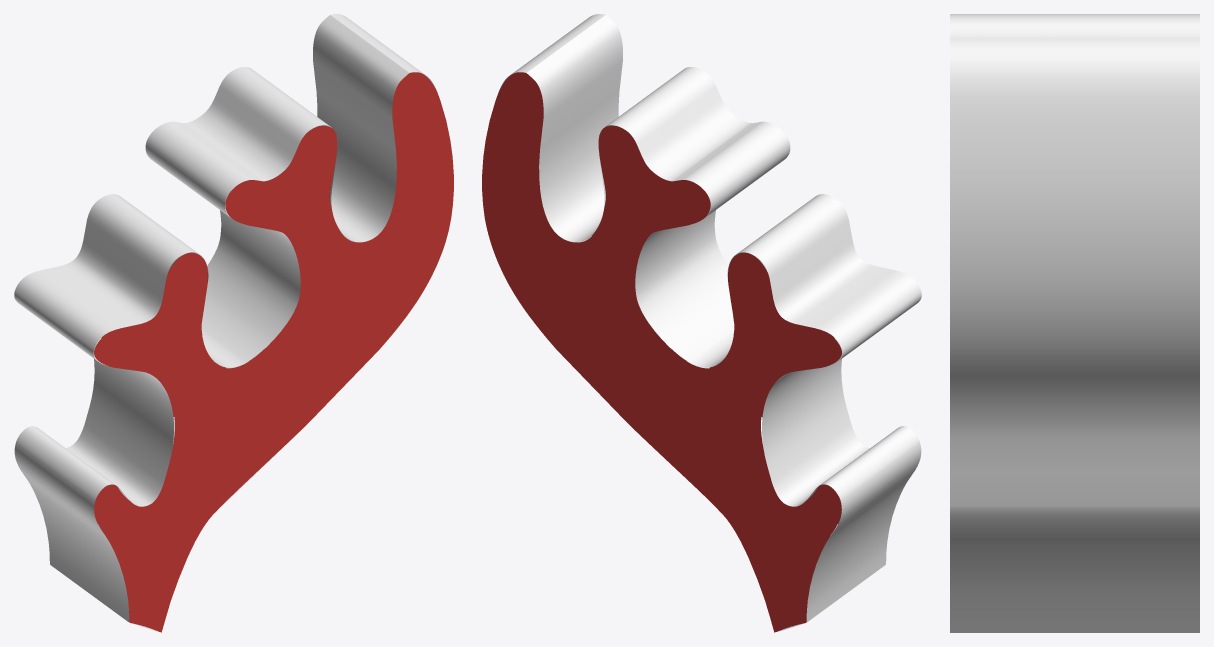
File: Horns.obj
3 views of the same model, side by side, from view 1: azimuth 30°, elevation 25°; view 2: azimuth 150°, elevation 25°; view 3: azimuth 270°, elevation 25° (orthographic). The views are drawn at different scales.
Visible parts, largest first — view 1: Vector Smart Object; view 2: Vector Smart Object; view 3: Vector Smart Object.
Part boxes in pixels (box(x1,y1,x2,y2)): Vector Smart Object: box(14, 14, 453, 632); Vector Smart Object: box(482, 14, 921, 632); Vector Smart Object: box(950, 14, 1199, 632).
Bounding box in the file's own units: 6.54 × 8.67 × 2.5.
Materials: 3 (3 with a texture image).
